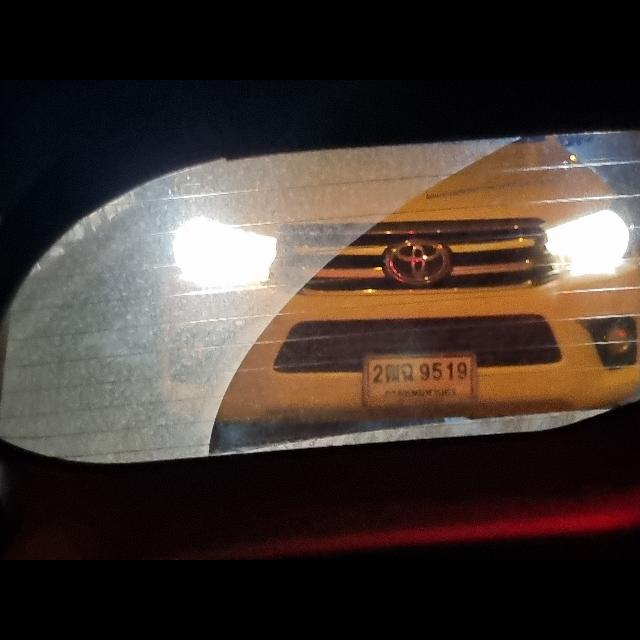licenseplate: (364, 353, 476, 407)
